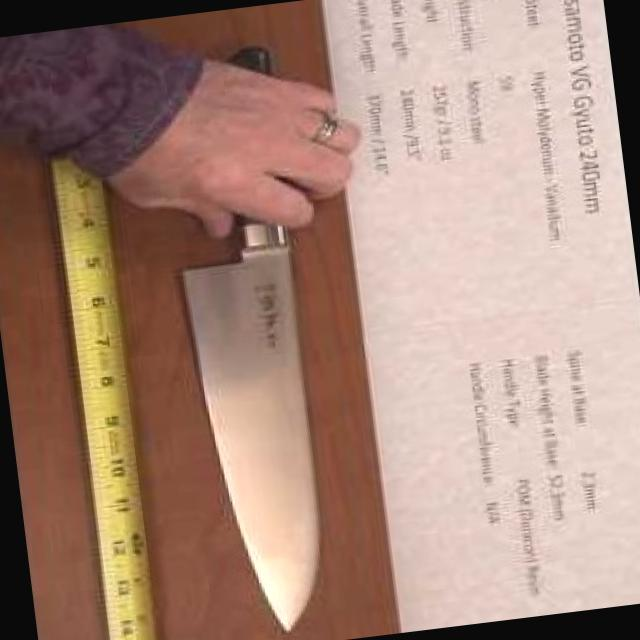knife: (160, 115, 425, 639)
